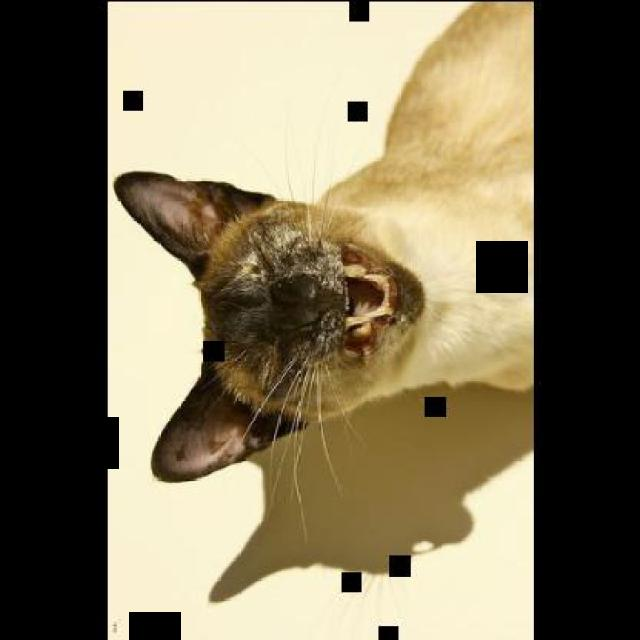unauthorized: (112, 0, 534, 525)
